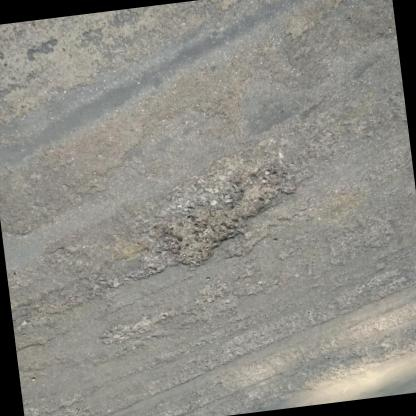pothole: (152, 160, 306, 275), (98, 310, 173, 346)
